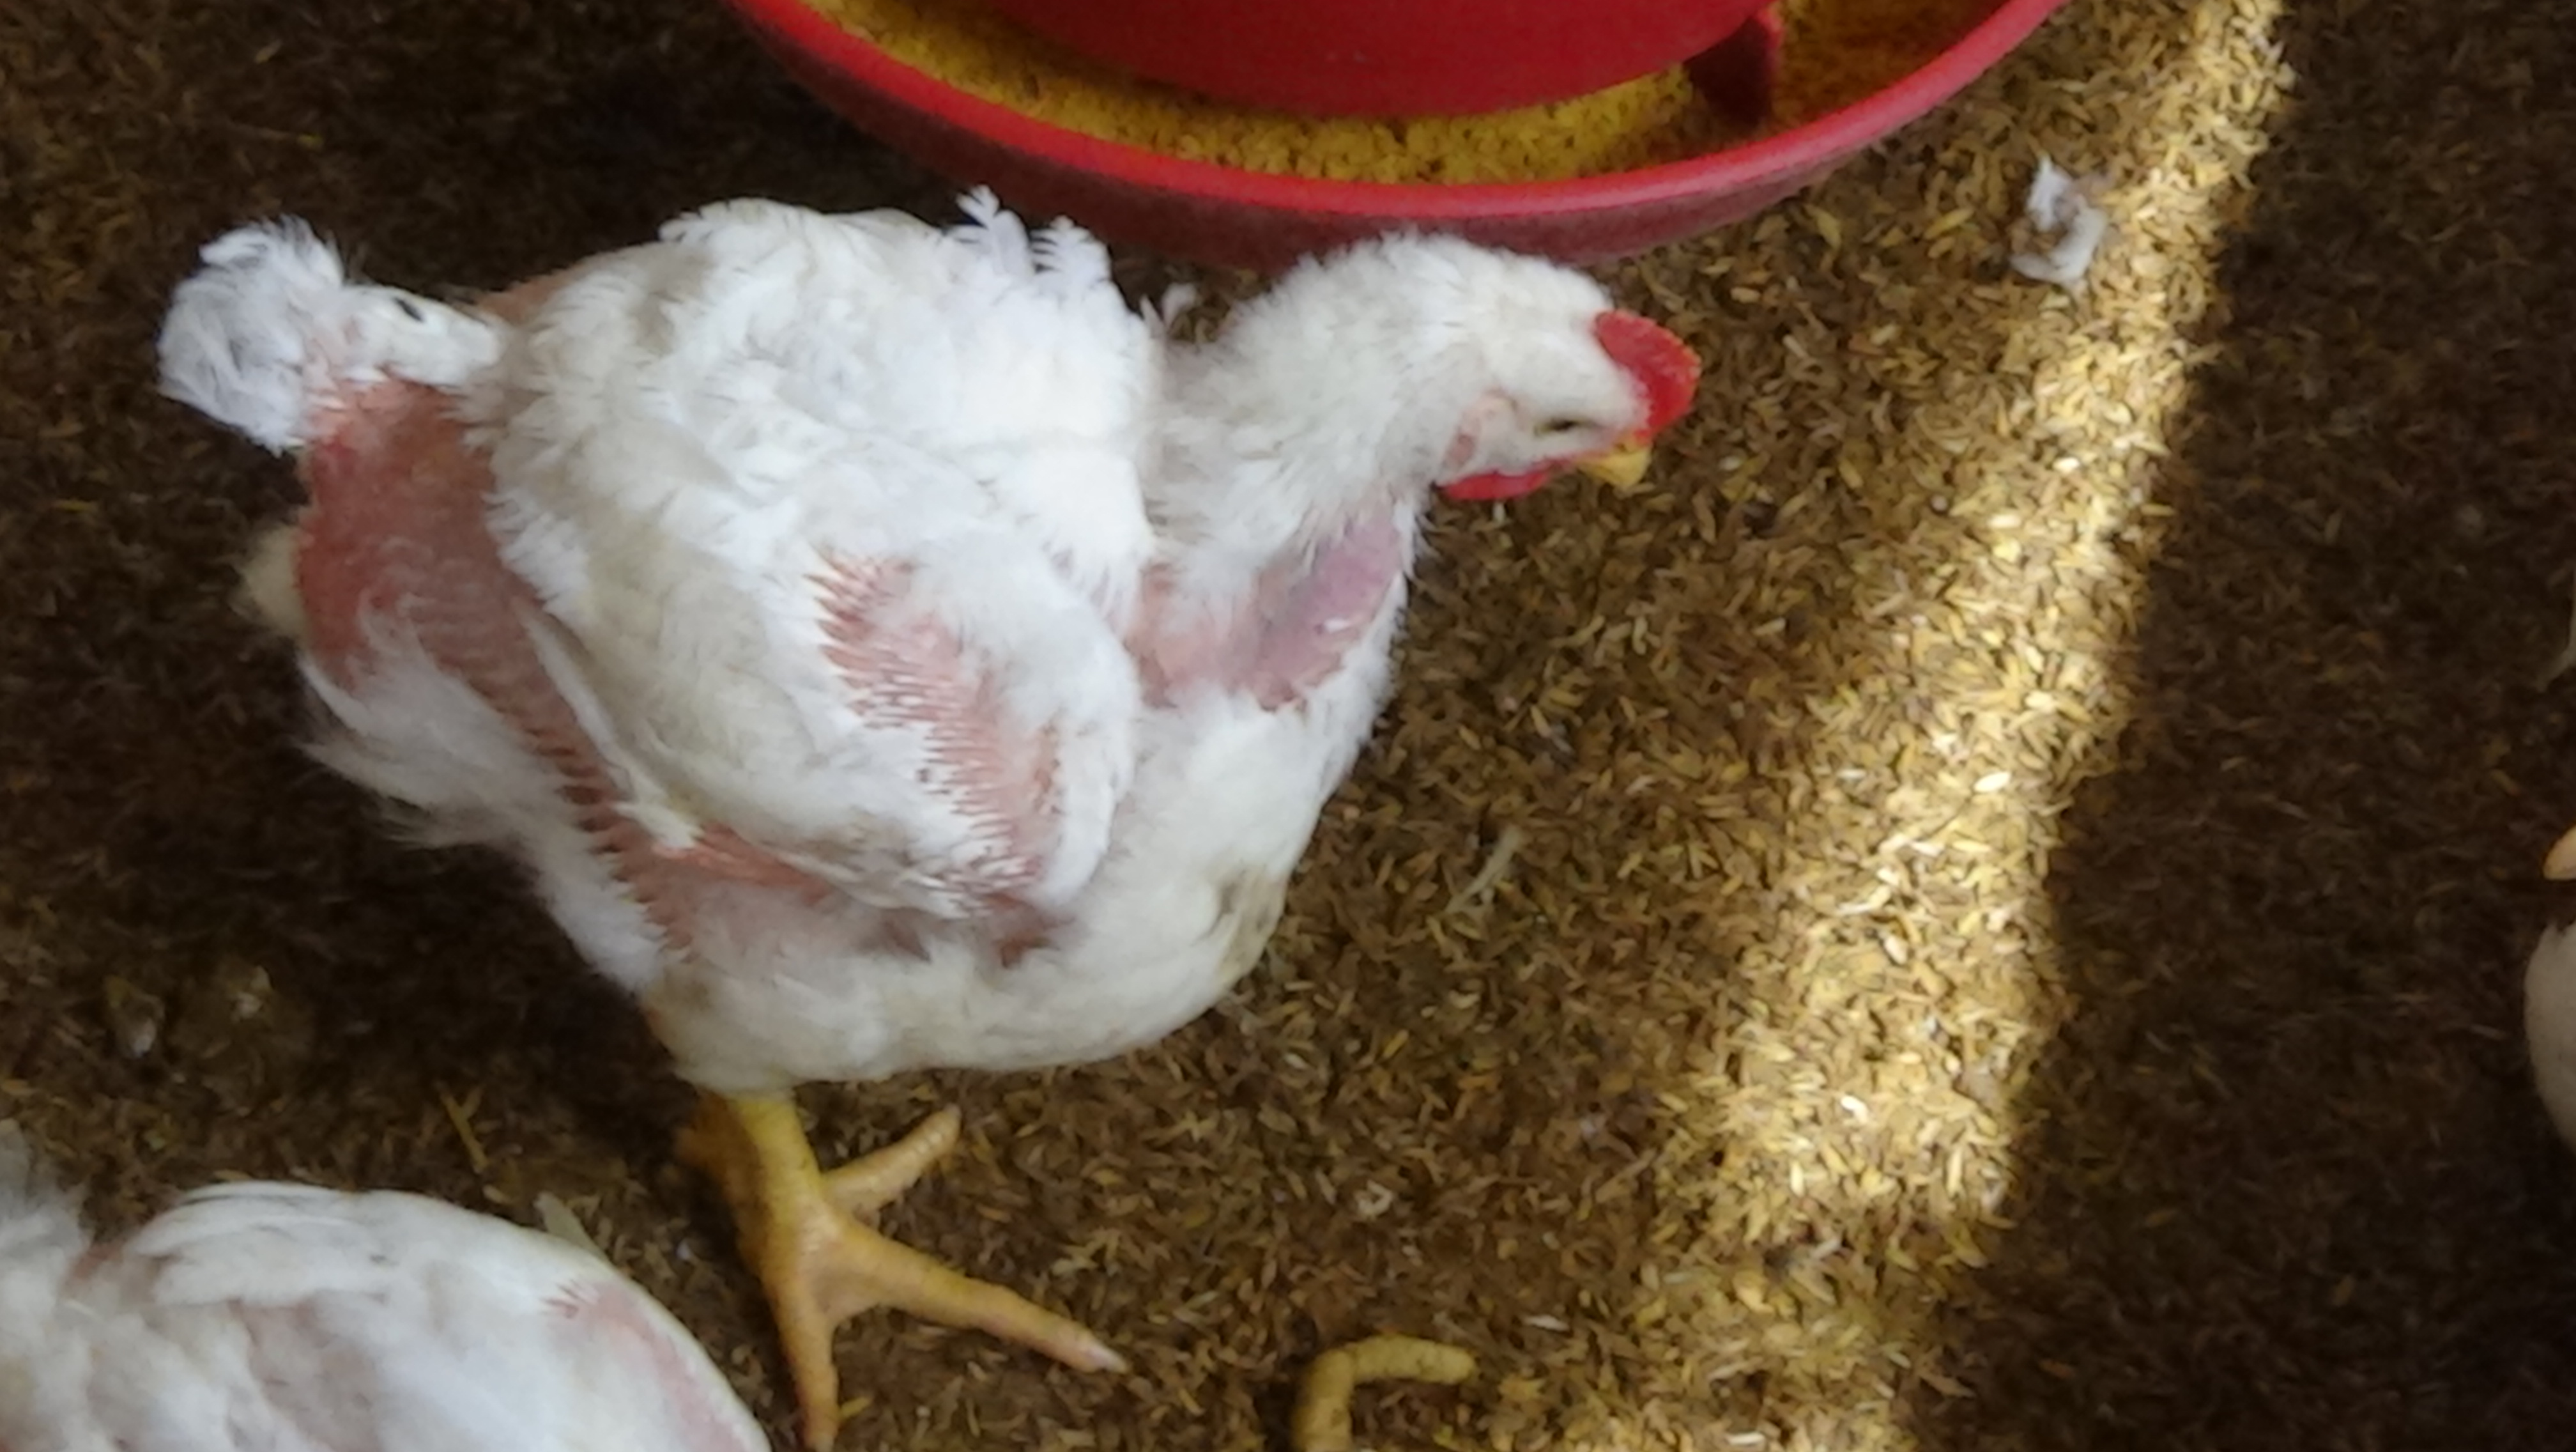Pollos: (129, 191, 1750, 1418)
